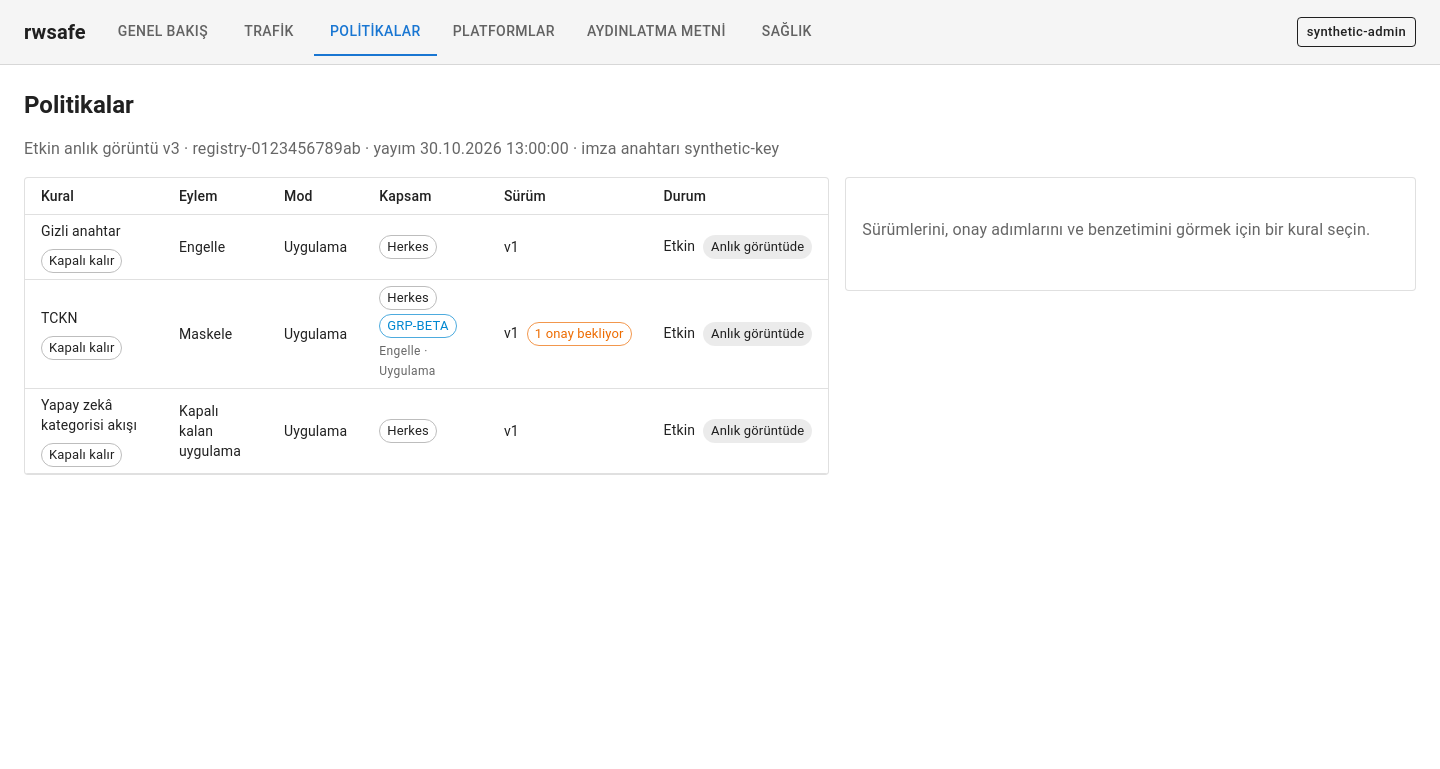
Test case: withdrawing a group scope › shows the server reason when the withdrawal is refused and changes nothing
Click the text "TCKN" at (82, 335), box x1=41 y1=310 x2=122 y2=360
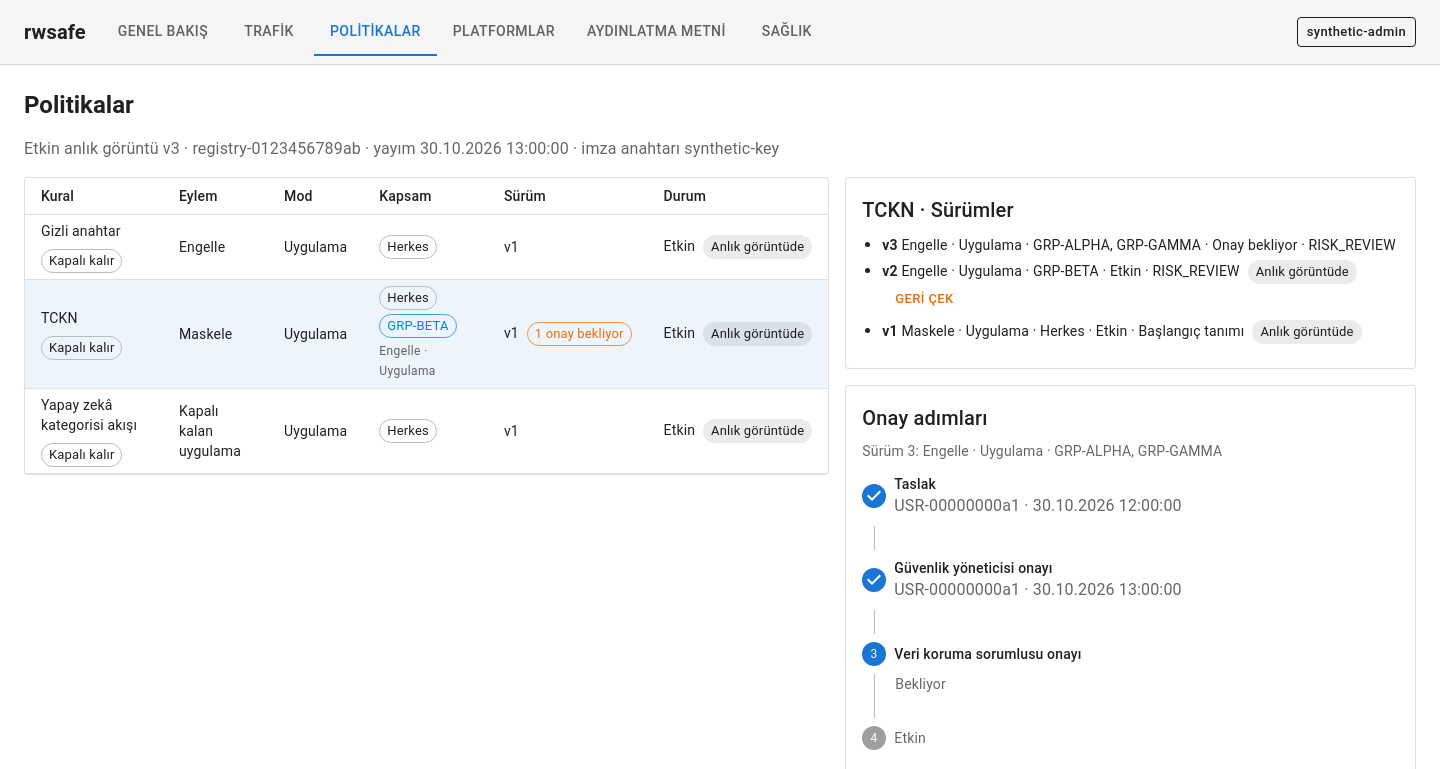
Click the button "Geri çek" at (924, 300), box x1=890 y1=284 x2=958 y2=315
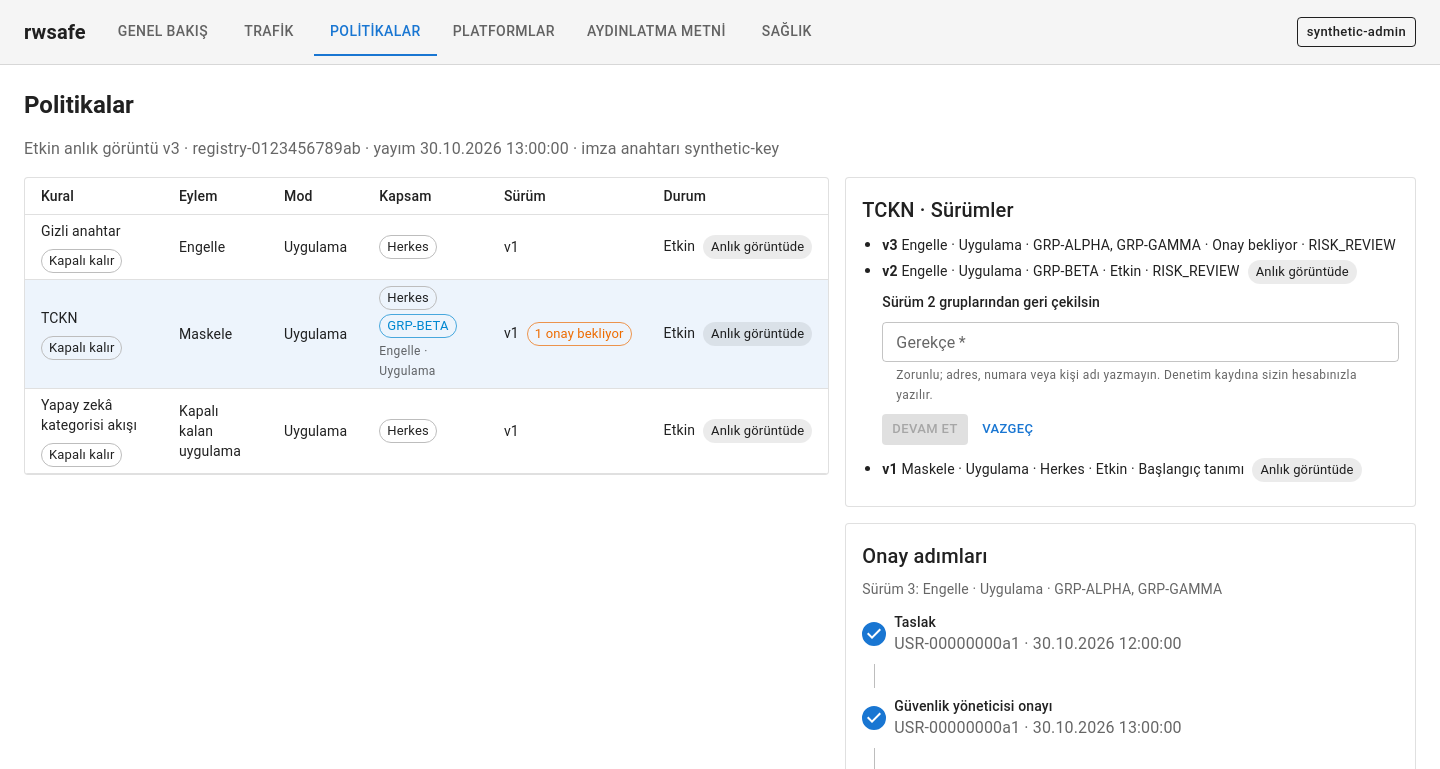
Type "Synthetic reason" into the field labelled "Gerekçe *" at (1141, 342), box x1=882 y1=322 x2=1399 y2=362
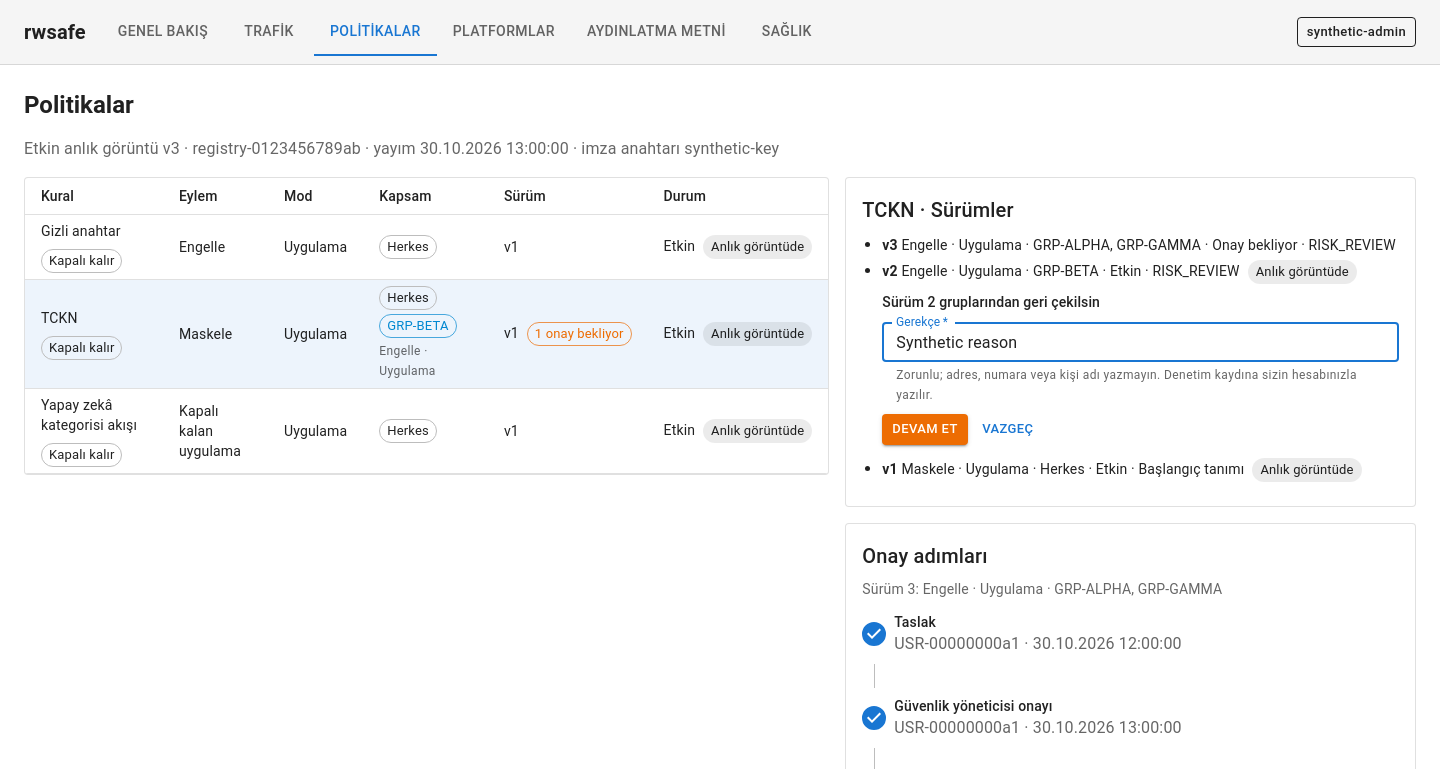
Click the button "Devam et" at (925, 430), box x1=882 y1=414 x2=968 y2=445
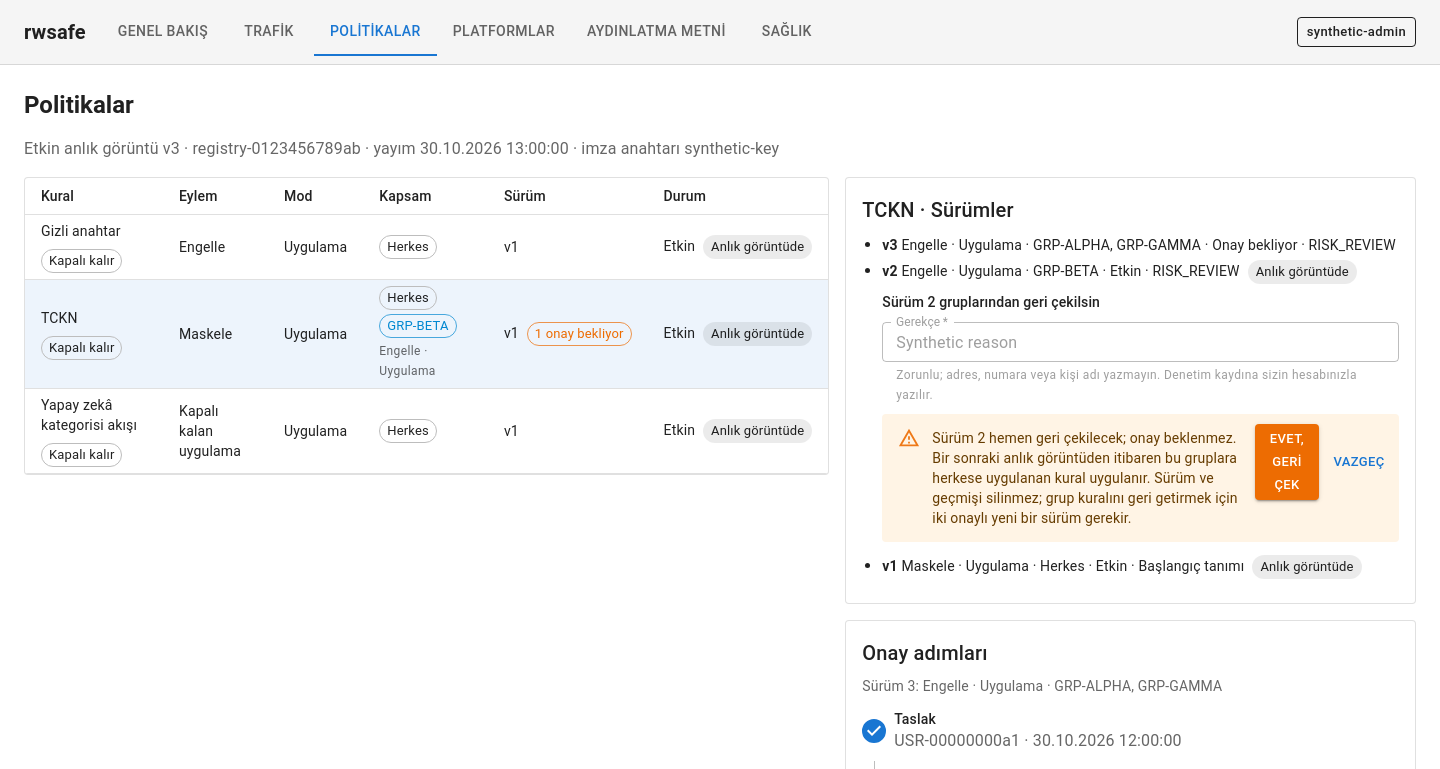
Click the button "Evet, geri çek" at (1287, 462), box x1=1255 y1=424 x2=1319 y2=500
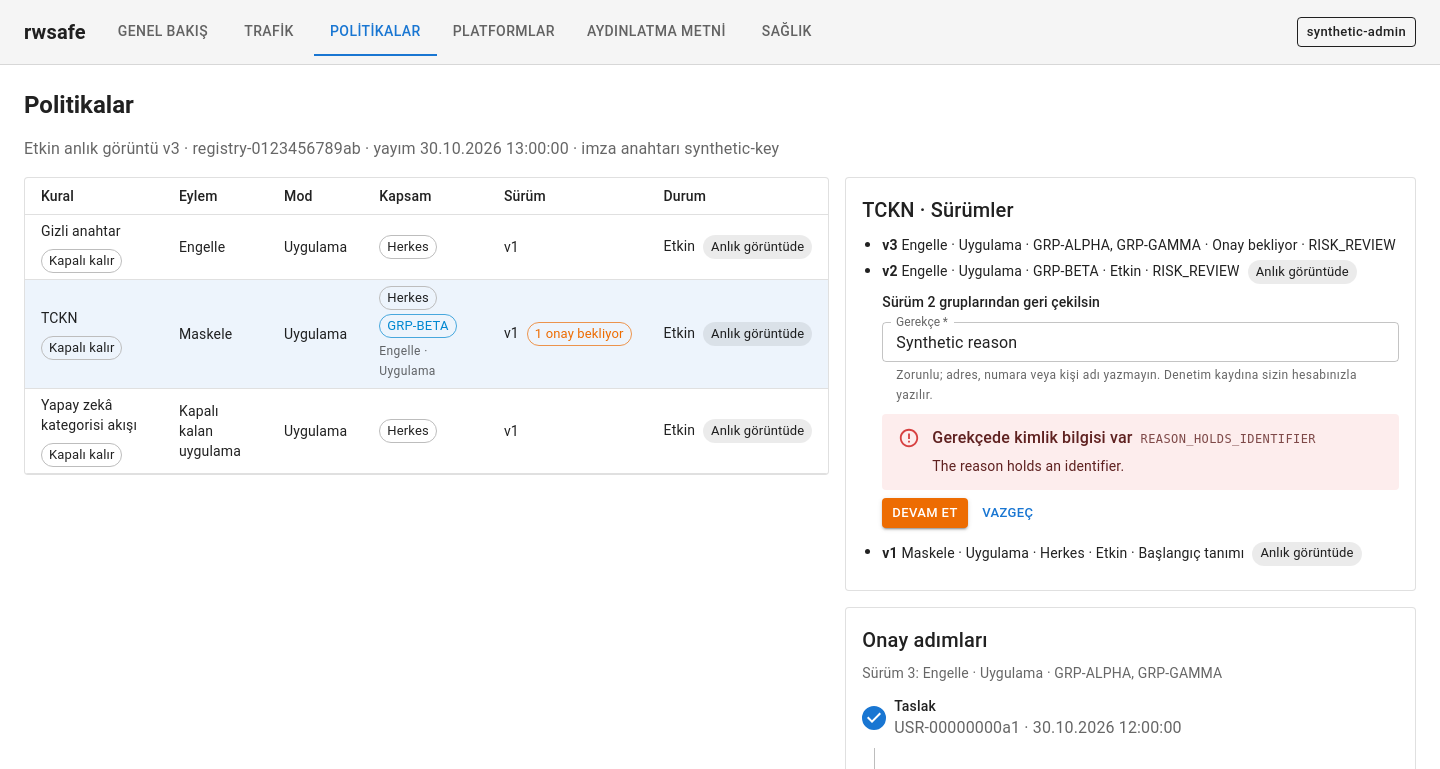
Result: the text "Gerekçede kimlik bilgisi var" is shown at x1=932 y1=428 x2=1132 y2=447
Result: the button "Devam et" is shown at x1=882 y1=498 x2=968 y2=528
